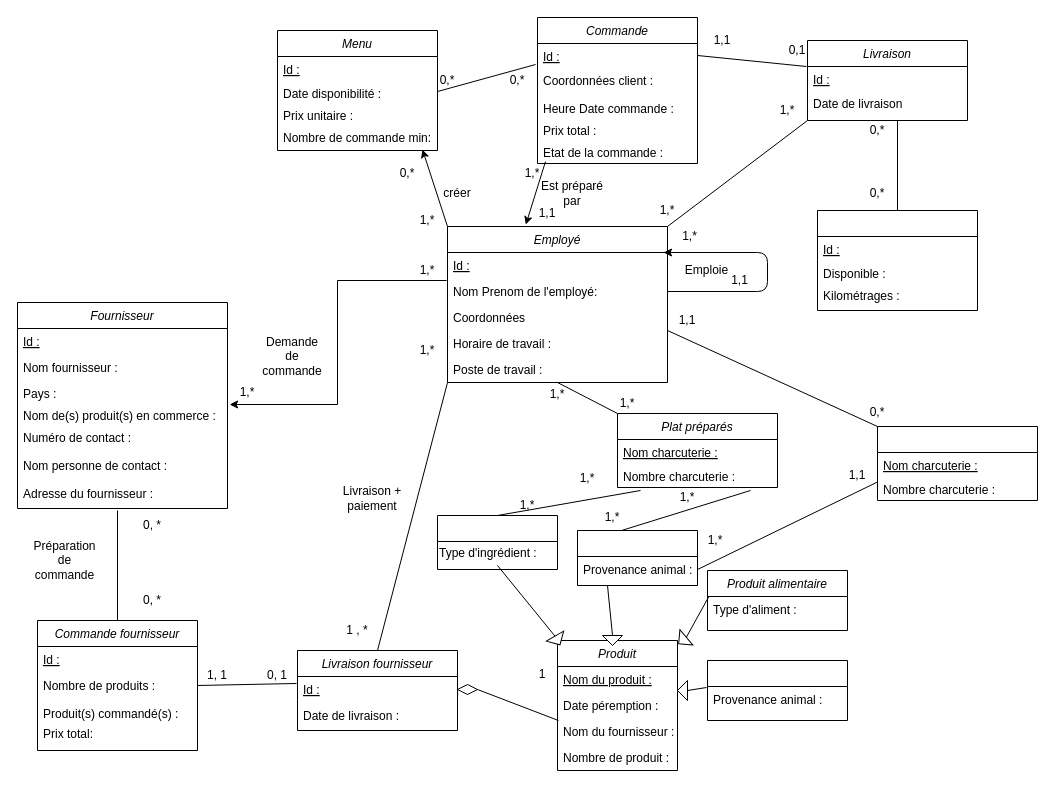
Some shapes in this 1055 by 791 pixel diagram are drawn without their labels. The shapes that lost their labels are listed below. From the top down, each one's box as (x1, y1, x2, y2) in pixels, then its label:
(816, 210, 978, 310): Voiture
(876, 426, 1038, 500): Charcuterie maison
(436, 514, 558, 570): Ingrédient particulier
(576, 530, 698, 586): Viande
(706, 660, 848, 720): Charcuterie
